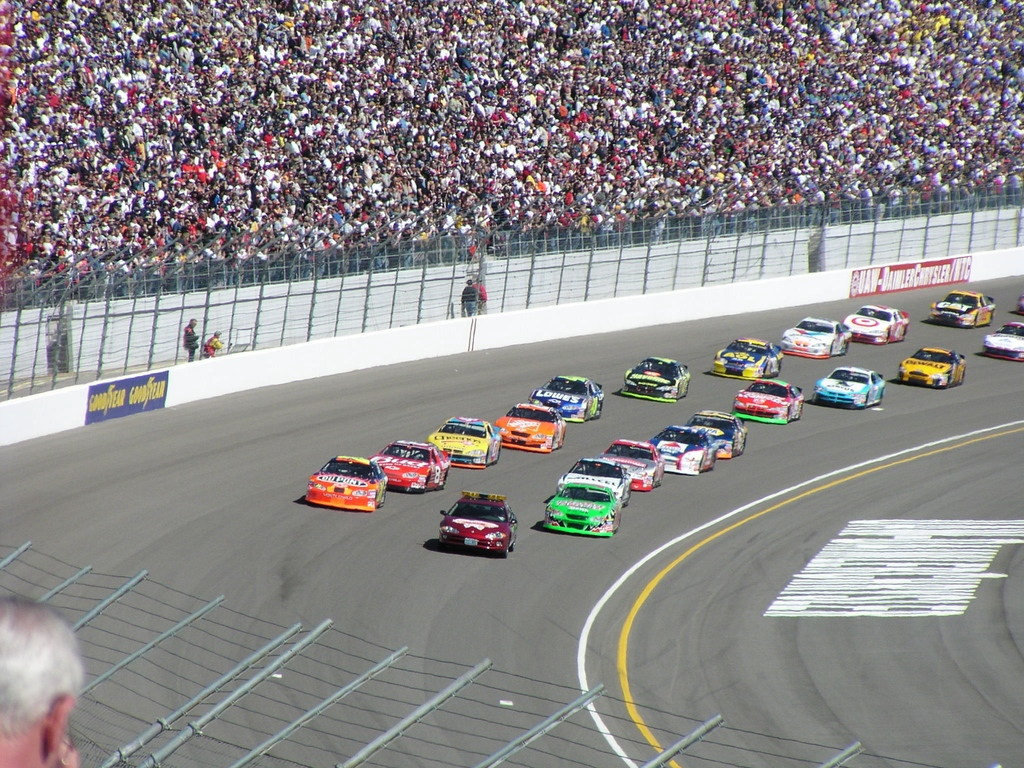Car: (306, 373, 604, 514), (543, 408, 746, 536), (421, 499, 522, 563), (730, 374, 805, 424), (620, 354, 693, 404), (811, 363, 885, 408), (896, 344, 968, 388), (780, 316, 851, 360), (711, 336, 781, 379), (842, 303, 910, 344), (928, 288, 995, 328), (983, 320, 1023, 360), (1016, 292, 1023, 316)
